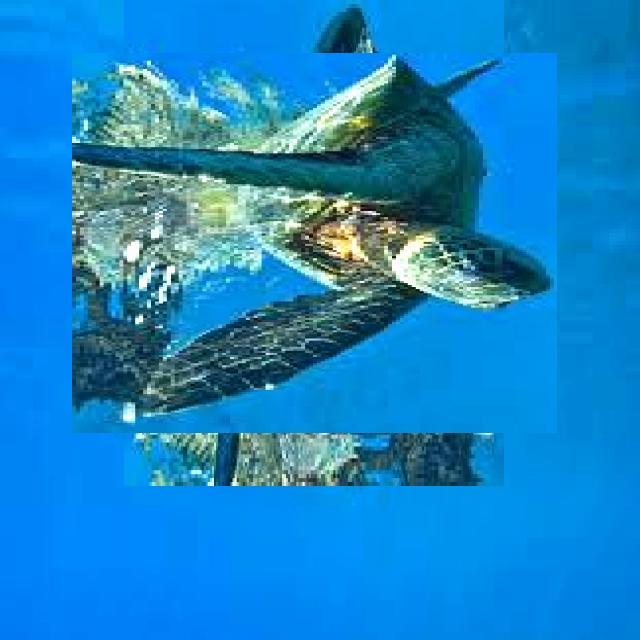Sea turtle: (97, 27, 531, 460)
